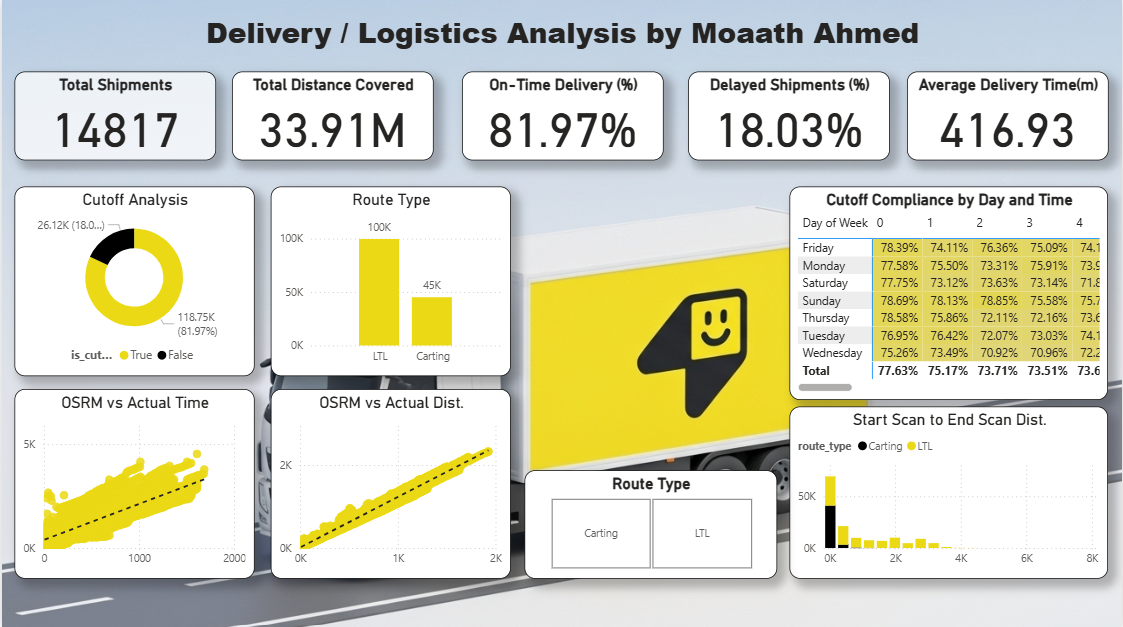

The page's visual inventory and layout, read from the dashboard file:
{"tool":"powerbi","page":{"name":"Page 1","canvas":[1280,720],"ordinal":0},"visuals":[{"type":"card","title":"Total Shipments","fields":{"Values":["Count(delhivery_data.trip_uuid)"]},"box":[14.3,83.3,230,101.4],"z":0},{"type":"card","title":"Average Delivery Time(m)","fields":{"Values":["Avg(delhivery_data.actual_time)"]},"box":[1029.2,83.7,234.6,101.5],"z":1000},{"type":"card","title":"On-Time Delivery (%)","fields":{"Values":["delhivery_data.On-Time Delivery (%)"]},"box":[525.7,83.3,230,101.4],"z":2000},{"type":"card","title":"Delayed Shipments (%)","fields":{"Values":["delhivery_data.Delayed Shipments (%)"]},"box":[776.7,83.7,237.4,101.5],"z":3000},{"type":"card","title":"Total Distance Covered","fields":{"Values":["Sum(delhivery_data.actual_distance_to_destination)"]},"box":[263.5,83.7,234.6,101.5],"z":4000},{"type":"textbox","box":[197.1,10,887.1,68.6],"z":5000},{"type":"donutChart","title":"Cutoff Analysis","fields":{"Category":["delhivery_data.is_cutoff"],"Y":["CountNonNull(delhivery_data.trip_uuid)"]},"box":[14.3,214.3,274.3,217.1],"z":6000},{"type":"pivotTable","title":"Cutoff Compliance by Day and Time","fields":{"Rows":["delhivery_data.Day of Week"],"Columns":["delhivery_data.Hour of Day"],"Values":["delhivery_data.On-Time Delivery (%)"]},"box":[900,214.3,364.3,244.3],"z":7000},{"type":"scatterChart","title":"OSRM vs Actual Time","fields":{"X":["delhivery_data.osrm_time"],"Y":["delhivery_data.actual_time"]},"box":[14.3,445.7,274.3,217.1],"z":8000},{"type":"columnChart","title":"Route Type","fields":{"Category":["delhivery_data.route_type"],"Y":["CountNonNull(delhivery_data.trip_uuid)"]},"box":[307.1,214.3,274.3,217.1],"z":9000},{"type":"columnChart","title":"Start Scan to End Scan Dist.","fields":{"Category":["delhivery_data.start_scan_to_end_scan (bins)"],"Y":["CountNonNull(delhivery_data.trip_uuid)"],"Series":["delhivery_data.route_type"]},"box":[900,465.7,364.3,197.1],"z":10000},{"type":"scatterChart","title":"OSRM vs Actual Dist.","fields":{"X":["delhivery_data.actual_distance_to_destination"],"Y":["delhivery_data.osrm_distance"]},"box":[307.1,445.7,274.3,217.1],"z":11000},{"type":"slicer","title":"Route Type","fields":{"Values":["delhivery_data.route_type"]},"box":[597.1,538.6,288.6,124.3],"z":12000}]}

Visuals, with their boxes in screenshot pixels (x1, y1, x2, y2), scaled from the page's 1280x720 canvas onto the 1123x627 screenshot:
"Total Shipments" card: crop(13, 73, 214, 161)
"Average Delivery Time(m)" card: crop(903, 73, 1109, 161)
"On-Time Delivery (%)" card: crop(461, 73, 663, 161)
"Delayed Shipments (%)" card: crop(681, 73, 890, 161)
"Total Distance Covered" card: crop(231, 73, 437, 161)
textbox: crop(173, 9, 951, 68)
"Cutoff Analysis" donutChart: crop(13, 187, 253, 376)
"Cutoff Compliance by Day and Time" pivotTable: crop(790, 187, 1109, 399)
"OSRM vs Actual Time" scatterChart: crop(13, 388, 253, 577)
"Route Type" columnChart: crop(269, 187, 510, 376)
"Start Scan to End Scan Dist." columnChart: crop(790, 406, 1109, 577)
"OSRM vs Actual Dist." scatterChart: crop(269, 388, 510, 577)
"Route Type" slicer: crop(524, 469, 777, 577)
